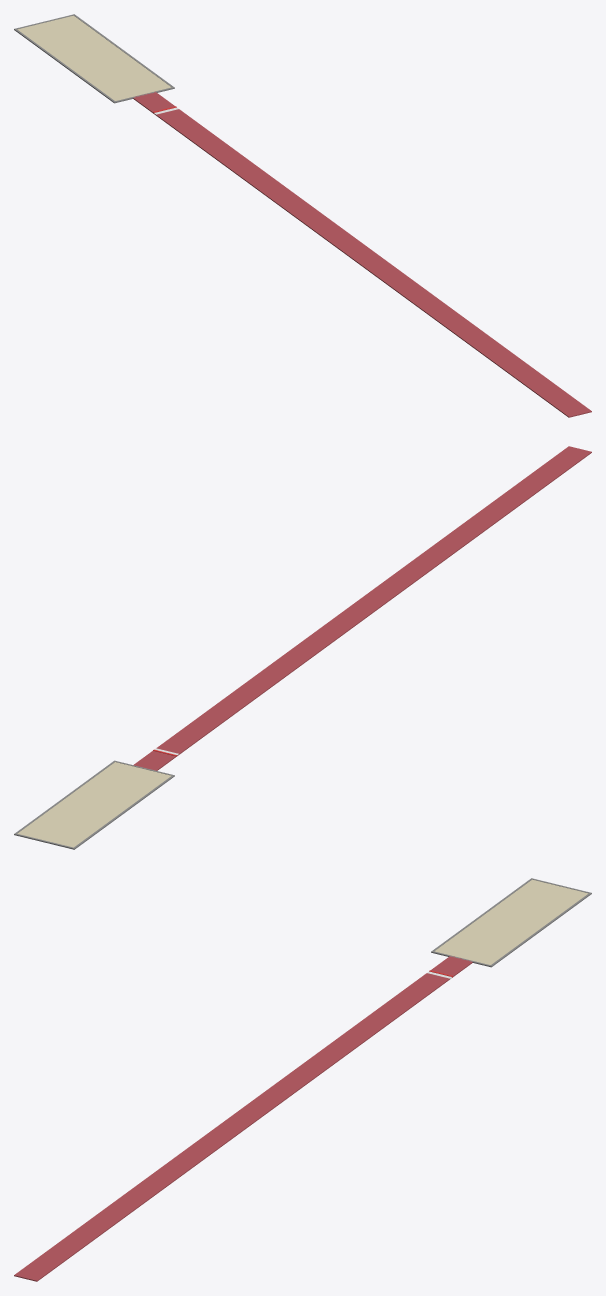
The model's file is LongJump.glb.
The picture shows the model from 3 angles, top to bottom: view 1: azimuth 30°, elevation 25°; view 2: azimuth 150°, elevation 25°; view 3: azimuth 330°, elevation 25°; orthographic projection.
Visible parts, largest first — view 1: MetaAthletics_LongJump_Runway, MetaAthletics_LongJump_SandPit; view 2: MetaAthletics_LongJump_Runway, MetaAthletics_LongJump_SandPit; view 3: MetaAthletics_LongJump_Runway, MetaAthletics_LongJump_SandPit.
Boxes of the visible parts, <box> form: MetaAthletics_LongJump_Runway: <box>133,91,591,417</box>; MetaAthletics_LongJump_SandPit: <box>17,15,171,100</box>; MetaAthletics_LongJump_Runway: <box>133,446,591,770</box>; MetaAthletics_LongJump_SandPit: <box>17,762,171,847</box>; MetaAthletics_LongJump_Runway: <box>14,955,472,1281</box>; MetaAthletics_LongJump_SandPit: <box>434,879,588,964</box>.
Size of the model in its own units: 3.2 by 0.07 by 49.1.
